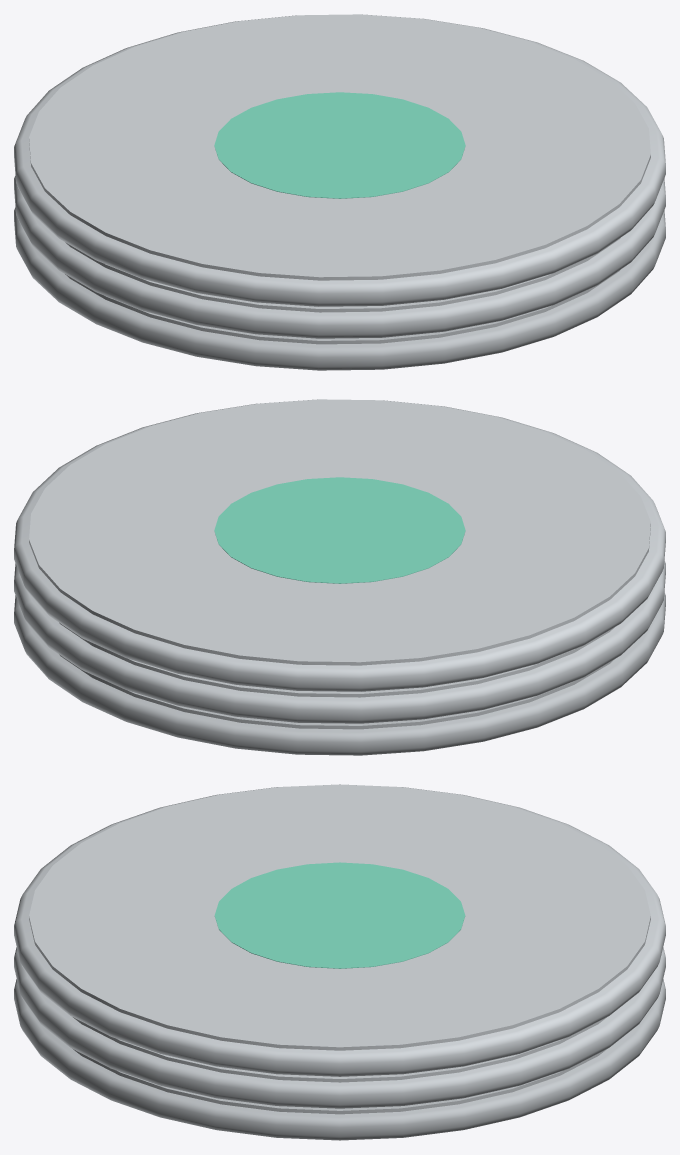
File: zone_kitchen_plate_stack.glb
3 views of the same model, one above another, from view 1: azimuth 30°, elevation 25°; view 2: azimuth 150°, elevation 25°; view 3: azimuth 270°, elevation 25° (orthographic).
Parts seen in each view (by area): view 1: zone_kitchen_plate_stack; view 2: zone_kitchen_plate_stack; view 3: zone_kitchen_plate_stack.
Part boxes in pixels (x1=…): zone_kitchen_plate_stack: x1=14, y1=14, x2=665, y2=370; zone_kitchen_plate_stack: x1=14, y1=399, x2=665, y2=755; zone_kitchen_plate_stack: x1=14, y1=784, x2=665, y2=1140.
Size of the model in its own units: 2.6 by 0.397 by 2.6.
